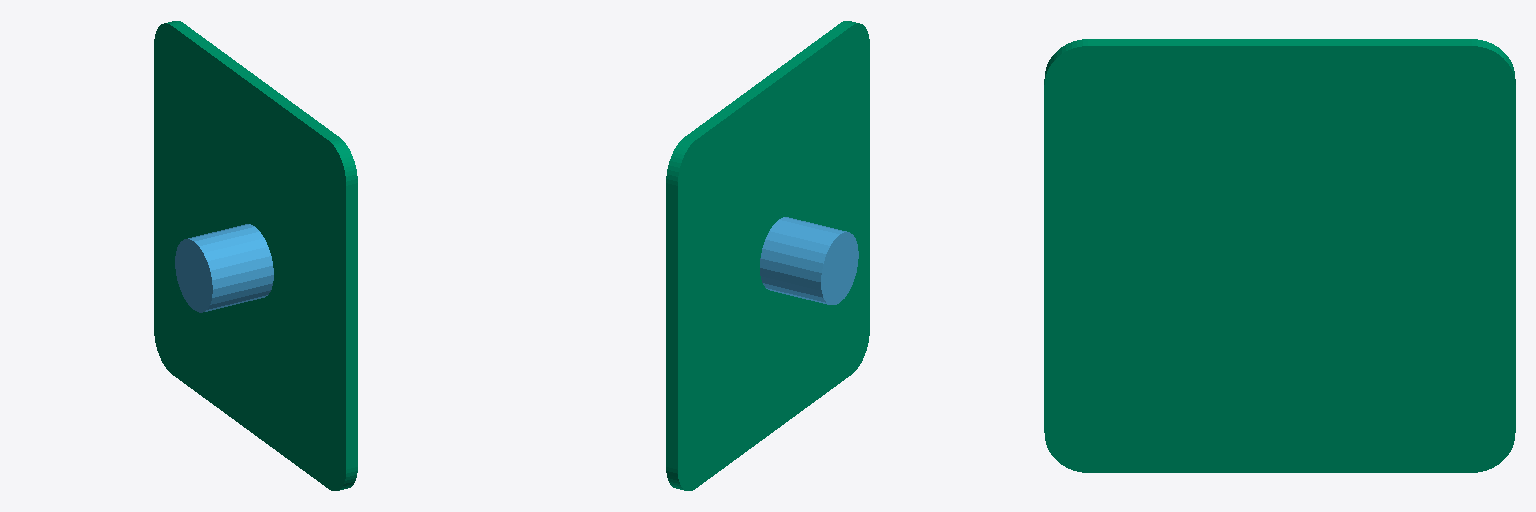
The robot description file, URDF, robot "partnet_21975e51b056985c7fe426949089aa80":
<?xml version="1.0" ?>
<robot name="partnet_21975e51b056985c7fe426949089aa80">
	<link name="base"/>
	<link name="link_0">
		<visual name="switch-1">
			<origin xyz="-0.04887380062281031 -0.0006031993771896706 0"/>
			<geometry>
				<mesh filename="textured_objs/original-4.obj"/>
			</geometry>
		</visual>
		<collision>
			<origin xyz="-0.04887380062281031 -0.0006031993771896706 0"/>
			<geometry>
				<mesh filename="textured_objs/original-4.obj"/>
			</geometry>
		</collision>
	</link>
	<joint name="joint_0" type="continuous">
		<origin xyz="0.04887380062281031 0.0006031993771896706 0"/>
		<axis xyz="0 0 1"/>
		<child link="link_0"/>
		<parent link="link_1"/>
	</joint>
	<link name="link_1">
		<visual name="base_body-2">
			<origin xyz="0 0 0"/>
			<geometry>
				<mesh filename="textured_objs/original-3.obj"/>
			</geometry>
		</visual>
		<visual name="base_body-2">
			<origin xyz="0 0 0"/>
			<geometry>
				<mesh filename="textured_objs/original-2.obj"/>
			</geometry>
		</visual>
		<collision>
			<origin xyz="0 0 0"/>
			<geometry>
				<mesh filename="textured_objs/original-3.obj"/>
			</geometry>
		</collision>
		<collision>
			<origin xyz="0 0 0"/>
			<geometry>
				<mesh filename="textured_objs/original-2.obj"/>
			</geometry>
		</collision>
	</link>
	<joint name="joint_1" type="fixed">
		<origin rpy="1.570796326794897 0 -1.570796326794897" xyz="0 0 0"/>
		<child link="link_1"/>
		<parent link="base"/>
	</joint>
</robot>

--- What the picture shows (computed from the rendered views, not written in the file) ---
The picture shows the robot from 3 angles, left to right: view 1: azimuth 30°, elevation 25°; view 2: azimuth 150°, elevation 25°; view 3: azimuth 270°, elevation 25°; orthographic projection.
Robot: partnet_21975e51b056985c7fe426949089aa80 — 3 links, 2 joints (1 continuous, 1 fixed); root link base; default pose: all joints at 0.
Visible links, largest first — view 1: link_1, link_0; view 2: link_1, link_0; view 3: link_1.
Boxes of the visible links, <box> form: link_1: <box>154,21,357,490</box>; link_0: <box>175,224,273,312</box>; link_1: <box>666,21,869,490</box>; link_0: <box>760,217,858,304</box>; link_1: <box>1044,39,1515,472</box>.
Bounding box of the posed robot: 0.3252 × 1.49 × 1.49 m (x, y, z).
Meshes: 3 distinct files referenced, 3 mesh visuals loaded (3 OBJ).
